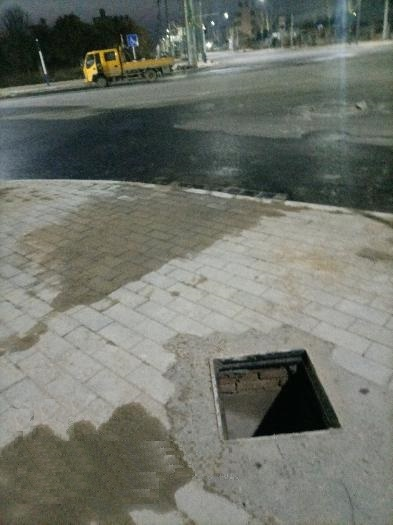lose: (208, 344, 348, 446)
